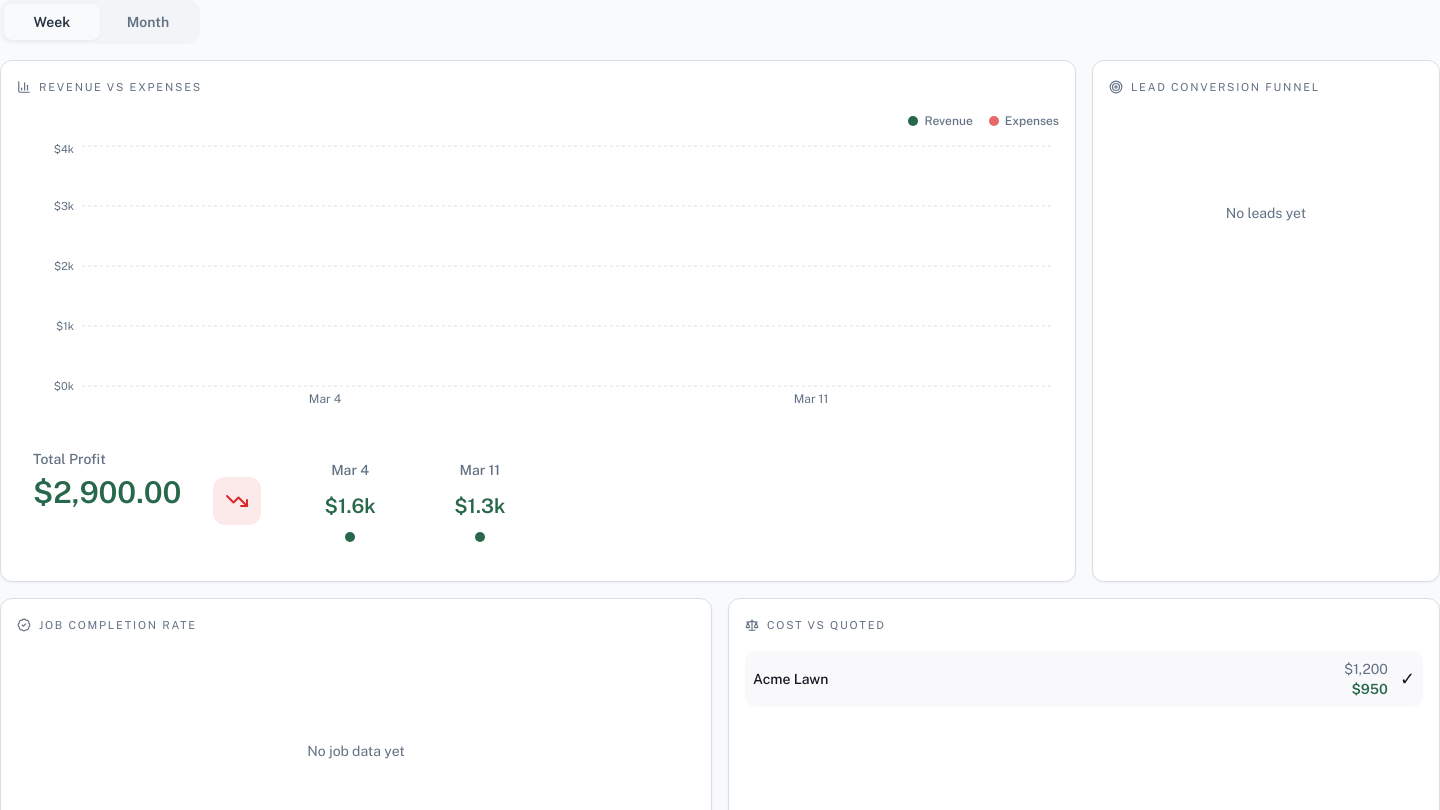
DashboardVisuals cost vs quoted navigation › opens one combined revenue-and-cost modal from the card and shows labeled total profit
Expected: the text "Total Profit" is shown, [33, 451, 106, 467]
Click the button with aria-label "open revenue and cost job details" at (59, 131), box [17, 113, 1059, 565]
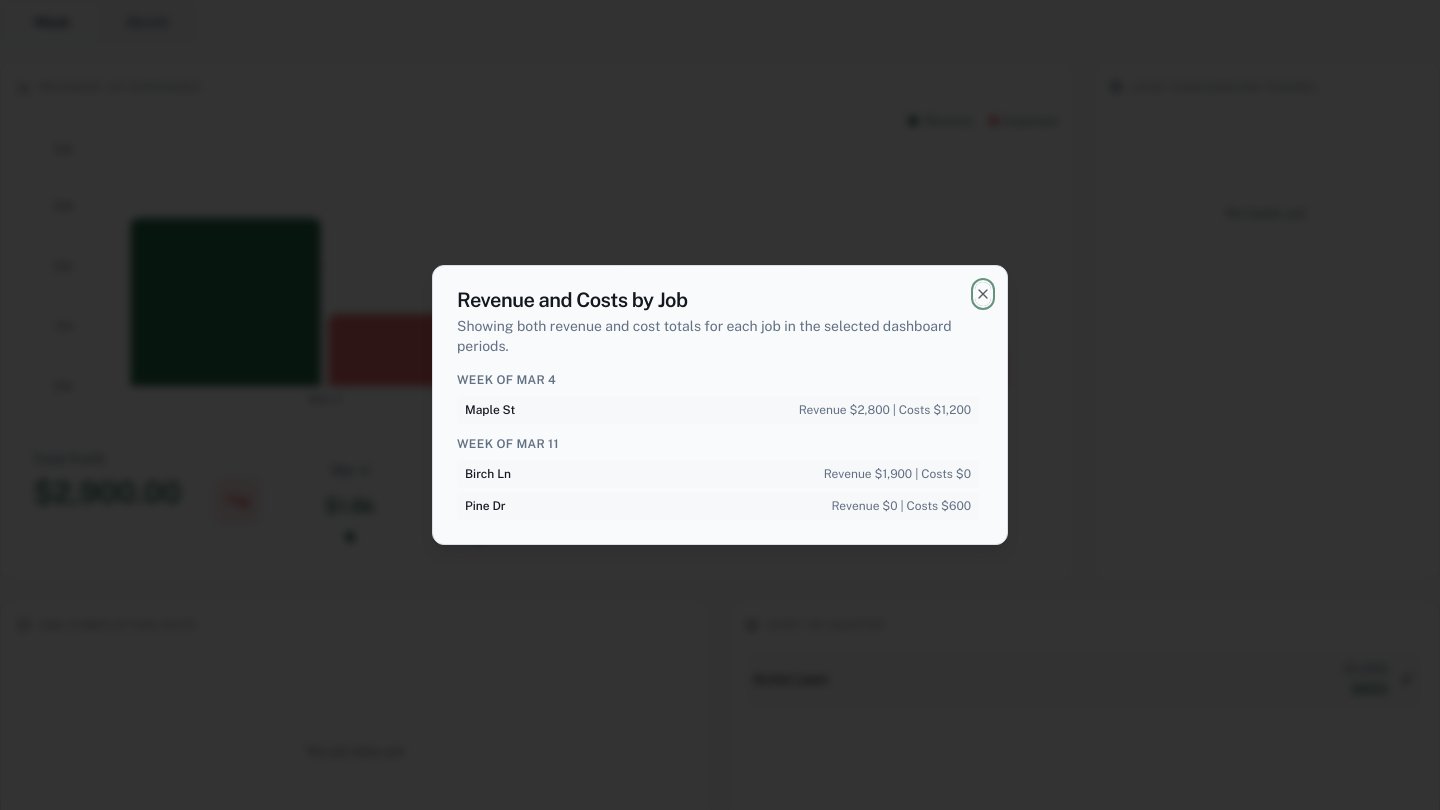
Result: the dialog is shown at [432, 265, 1008, 545]
Result: the heading "Revenue and Costs by Job" is shown at [457, 288, 688, 312]
Result: the heading "Week of Mar 4" is shown at [457, 373, 556, 387]
